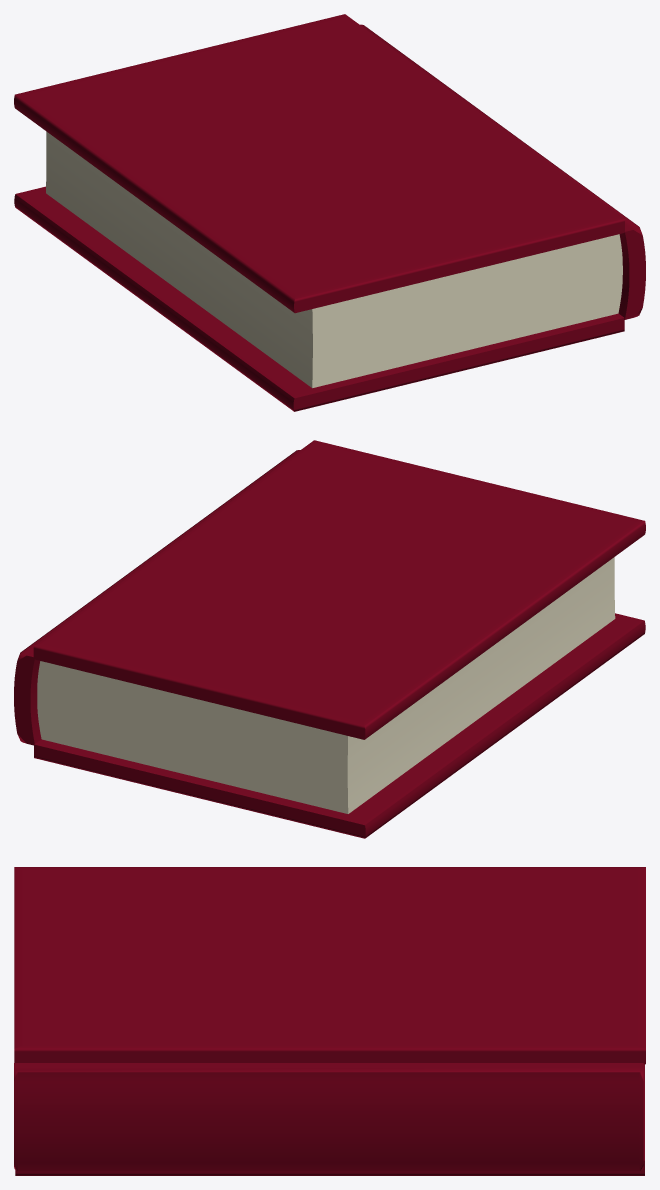
The picture shows the model from 3 angles, top to bottom: view 1: azimuth 30°, elevation 25°; view 2: azimuth 150°, elevation 25°; view 3: azimuth 270°, elevation 25°; orthographic projection. The views are drawn at different scales.
Parts seen in each view (by area): view 1: 立方体.002, 立方体.003, 立方体.001, 立方体; view 2: 立方体.002, 立方体.003, 立方体.001, 立方体; view 3: 立方体.002, 立方体, 立方体.001.
Boxes of the visible parts, box(x1,y1,x2,y2) form: 立方体.002: box(14, 14, 624, 313); 立方体.003: box(46, 131, 622, 388); 立方体.001: box(14, 186, 624, 411); 立方体: box(360, 24, 645, 319); 立方体.002: box(33, 440, 645, 739); 立方体.003: box(37, 557, 615, 813); 立方体.001: box(34, 613, 645, 838); 立方体: box(14, 450, 300, 745); 立方体.002: box(14, 867, 645, 1064); 立方体: box(14, 1063, 643, 1170); 立方体.001: box(15, 1064, 644, 1175).
Size of the model in its own units: 218 by 67.49 by 301.
